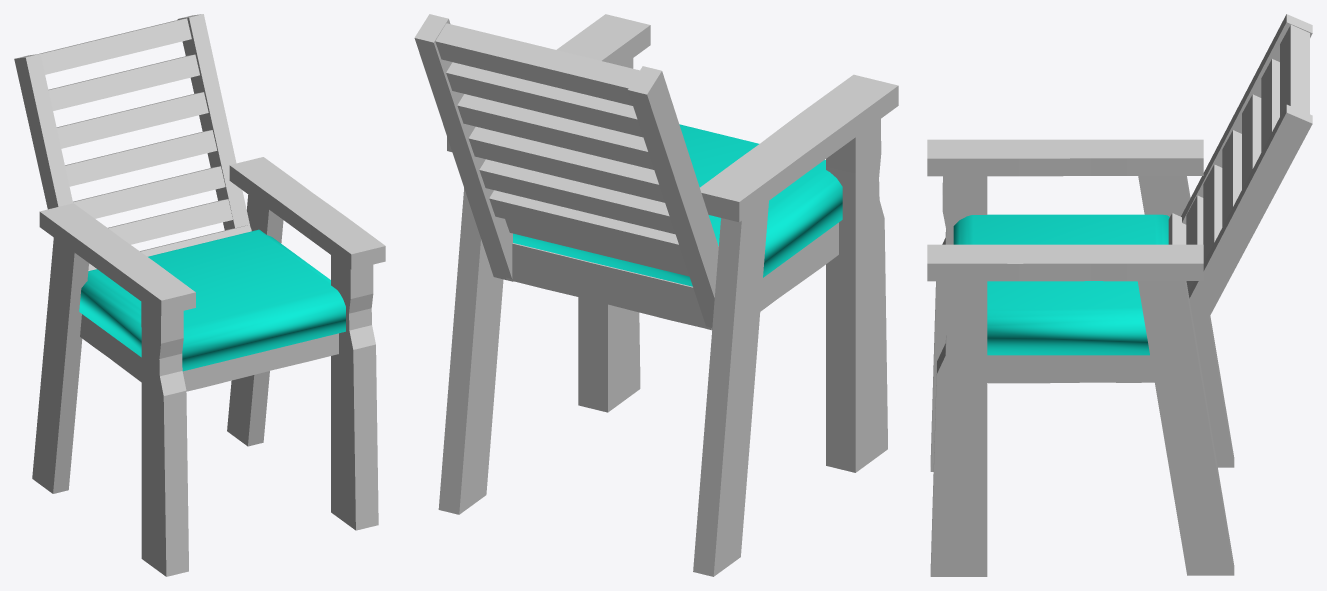
Rendered from chair_tier5.fbx.
The picture shows the model from 3 angles, left to right: view 1: azimuth 30°, elevation 25°; view 2: azimuth 150°, elevation 25°; view 3: azimuth 270°, elevation 25°; orthographic projection. The views are drawn at different scales.
Visible parts, largest first — view 1: Cube, Cube.015, Cube.013, Cube.014, Cube.003, Cube.004, Cube.006, Cube.005, Cube.001, Cube.022, Cube.021, Cube.020 (+6 smaller); view 2: Cube.015, Cube.014, Cube.001, Cube.004, Cube, Cube.005, Cube.017, Cube.002, Cube.006, Cube.013, Cube.022, Cube.021 (+6 smaller); view 3: Cube, Cube.013, Cube.001, Cube.003, Cube.004, Cube.006, Cube.012, Cube.014, Cube.015, Cube.002, Cube.005, Cube.023 (+5 smaller).
Part boxes in pixels (bbox=[...]): Cube: bbox=[79, 229, 345, 371]; Cube.015: bbox=[141, 302, 188, 576]; Cube.013: bbox=[331, 255, 378, 530]; Cube.014: bbox=[32, 237, 88, 493]; Cube.003: bbox=[229, 157, 385, 269]; Cube.004: bbox=[39, 203, 195, 316]; Cube.006: bbox=[177, 14, 249, 230]; Cube.005: bbox=[14, 54, 72, 209]; Cube.001: bbox=[227, 194, 283, 446]; Cube.022: bbox=[65, 130, 217, 186]; Cube.021: bbox=[56, 92, 208, 148]; Cube.020: bbox=[48, 54, 199, 110]; Cube.015: bbox=[826, 119, 887, 472]; Cube.014: bbox=[693, 201, 768, 576]; Cube.001: bbox=[438, 188, 503, 514]; Cube.004: bbox=[700, 74, 898, 222]; Cube: bbox=[513, 124, 842, 286]; Cube.005: bbox=[628, 66, 718, 330]; Cube.017: bbox=[506, 243, 711, 329]; Cube.002: bbox=[435, 23, 639, 105]; Cube.006: bbox=[414, 14, 513, 281]; Cube.013: bbox=[578, 58, 640, 412]; Cube.022: bbox=[468, 126, 664, 202]; Cube.021: bbox=[457, 94, 653, 169]; Cube: bbox=[953, 214, 1169, 355]; Cube.013: bbox=[930, 281, 987, 576]; Cube.001: bbox=[1137, 281, 1234, 575]; Cube.003: bbox=[927, 244, 1203, 281]; Cube.004: bbox=[927, 139, 1203, 176]; Cube.006: bbox=[1188, 104, 1312, 340]; Cube.012: bbox=[987, 355, 1154, 383]; Cube.014: bbox=[1138, 176, 1234, 467]; Cube.015: bbox=[930, 176, 987, 471]; Cube.002: bbox=[1280, 24, 1309, 116]; Cube.005: bbox=[1181, 14, 1312, 224]; Cube.023: bbox=[1203, 164, 1222, 262].
Size of the model in its own units: 59.03 by 101 by 77.37.
